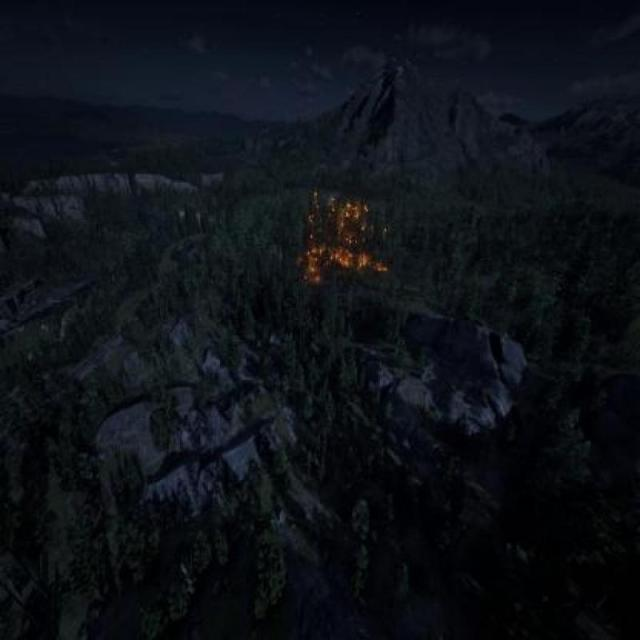Fire: (292, 166, 402, 316)
